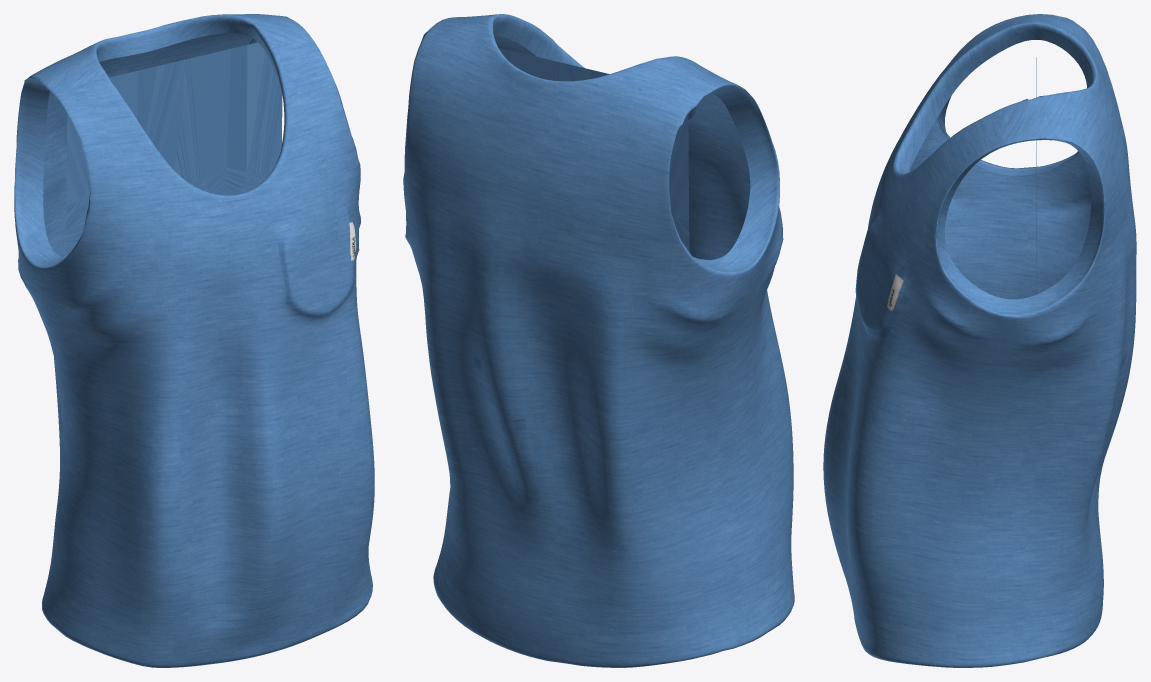
The model's file is female-blue-singlet.dae.
3 views of the same model, side by side, from view 1: azimuth 30°, elevation 25°; view 2: azimuth 150°, elevation 25°; view 3: azimuth 270°, elevation 25° (orthographic). The views are drawn at different scales.
Visible parts, largest first — view 1: shirt4, Plane; view 2: shirt4, Plane; view 3: shirt4.
Boxes of the visible parts, x1,y1,x2,y2 form: shirt4: (14, 14, 374, 667); Plane: (66, 42, 282, 256); shirt4: (403, 14, 794, 667); Plane: (498, 47, 689, 251); shirt4: (823, 14, 1136, 667).
Bounding box in the file's own units: 1.68 × 1.5 × 2.94.
Materials: 2 (2 with a texture image).
